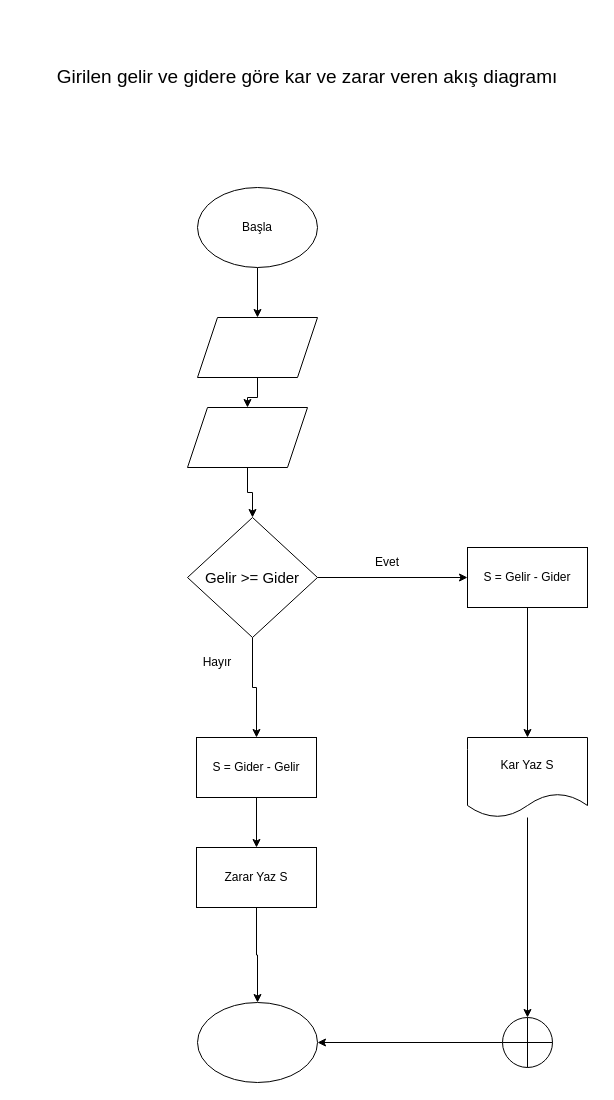
Image size: 614x1100. Some labels were removed from this diagram. Each missing label, with the box of its shape:
Gelir Oku: (196, 316, 318, 378)
Gider Oku: (186, 406, 308, 468)
Son: (196, 1002, 318, 1082)
